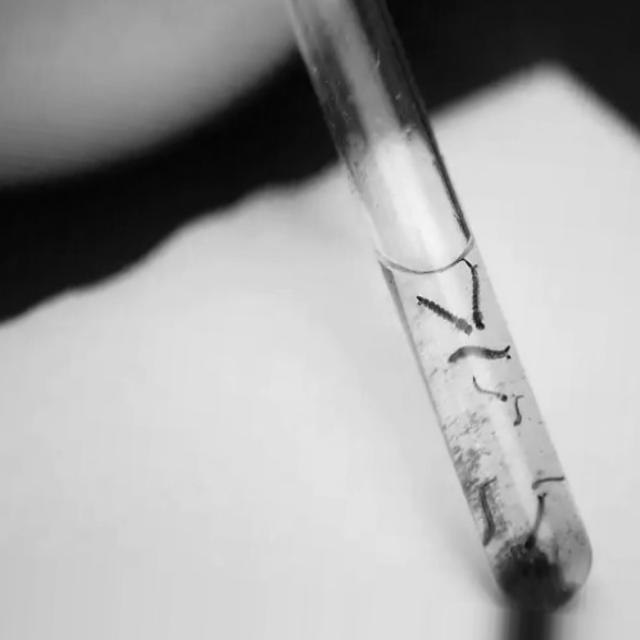larvas: (412, 296, 471, 334), (469, 256, 487, 328), (523, 494, 546, 548), (477, 474, 494, 546), (445, 346, 513, 363), (471, 379, 508, 399), (530, 475, 560, 488), (512, 393, 522, 422)
